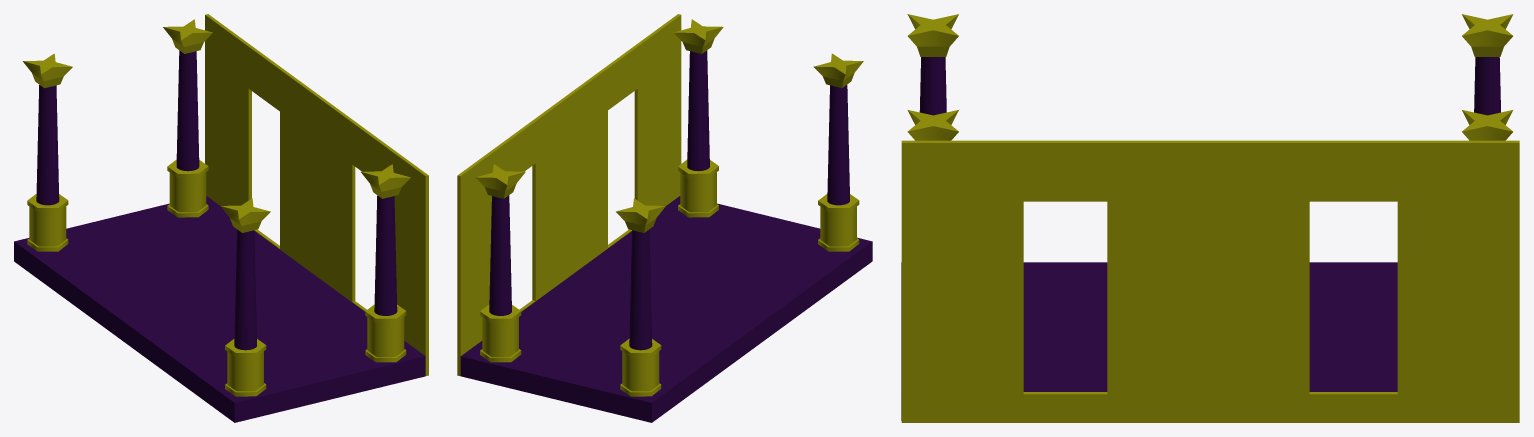
Rendered from classical_stage.FBX.
3 views of the same model, side by side, from view 1: azimuth 30°, elevation 25°; view 2: azimuth 150°, elevation 25°; view 3: azimuth 270°, elevation 25° (orthographic). The views are drawn at different scales.
Parts seen in each view (by area): view 1: Box001, Box009, Cylinder003, Cylinder001, Cylinder007, Cylinder005, Cylinder008, Cylinder006, Cylinder002, Cylinder004, Box006, Box004 (+2 smaller); view 2: Box001, Box009, Cylinder007, Cylinder005, Cylinder001, Cylinder003, Cylinder002, Cylinder006, Cylinder004, Cylinder008, Box006, Box005 (+2 smaller); view 3: Box009, Box001, Box003, Box004, Cylinder003, Cylinder001, Box006, Box005.
Part boxes in pixels (bbox=[...]): Box001: bbox=[14, 196, 425, 422]; Box009: bbox=[205, 14, 428, 375]; Cylinder003: bbox=[234, 229, 256, 350]; Cylinder001: bbox=[36, 85, 59, 205]; Cylinder007: bbox=[374, 195, 397, 315]; Cylinder005: bbox=[176, 50, 199, 171]; Cylinder008: bbox=[365, 304, 406, 362]; Cylinder006: bbox=[167, 159, 208, 217]; Cylinder002: bbox=[27, 194, 68, 251]; Cylinder004: bbox=[225, 339, 266, 396]; Box006: bbox=[361, 164, 410, 198]; Box004: bbox=[220, 198, 270, 232]; Box001: bbox=[460, 196, 872, 422]; Box009: bbox=[457, 14, 681, 376]; Cylinder007: bbox=[687, 50, 709, 171]; Cylinder005: bbox=[489, 195, 511, 315]; Cylinder001: bbox=[629, 230, 652, 350]; Cylinder003: bbox=[827, 85, 849, 205]; Cylinder002: bbox=[620, 338, 661, 396]; Cylinder006: bbox=[480, 304, 521, 362]; Cylinder004: bbox=[818, 194, 859, 251]; Cylinder008: bbox=[678, 159, 718, 217]; Box006: bbox=[673, 19, 723, 53]; Box005: bbox=[475, 164, 525, 198]; Box009: bbox=[901, 140, 1519, 422]; Box001: bbox=[901, 262, 1397, 420]; Box003: bbox=[1462, 14, 1513, 56]; Box004: bbox=[907, 14, 958, 56]; Cylinder003: bbox=[919, 57, 946, 115]; Cylinder001: bbox=[1474, 57, 1500, 115]; Box006: bbox=[907, 110, 958, 140]; Box005: bbox=[1462, 110, 1513, 140].
Bounding box in the file's own units: 122 × 121 × 240.
